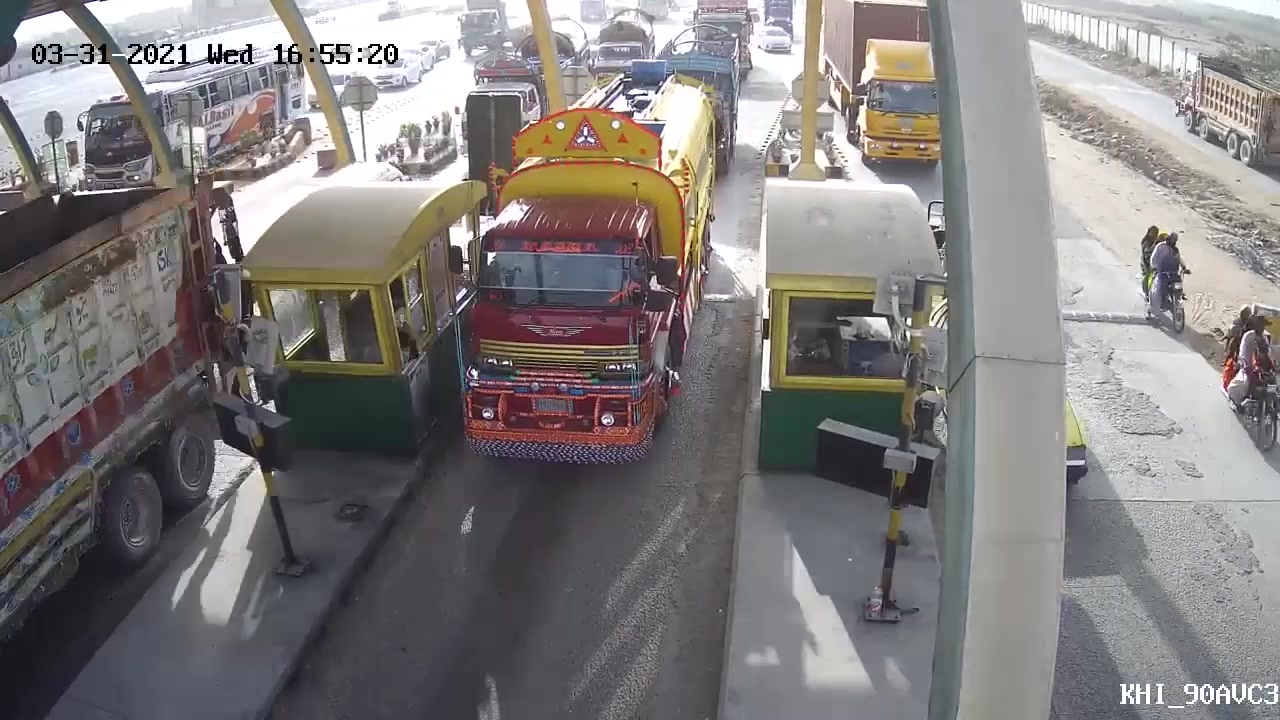F6: (450, 65, 722, 479)
